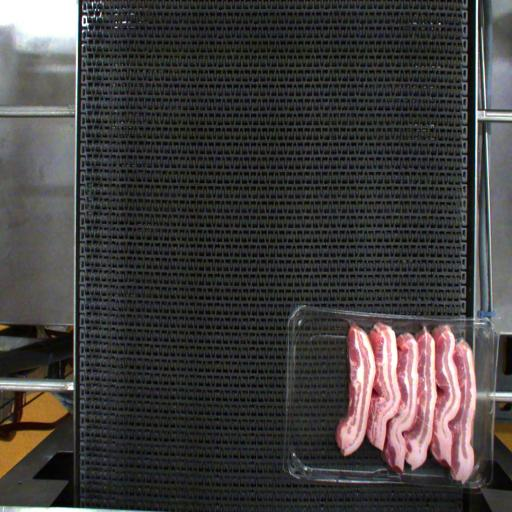packaging-error: (419, 310, 452, 340), (342, 305, 363, 336)
